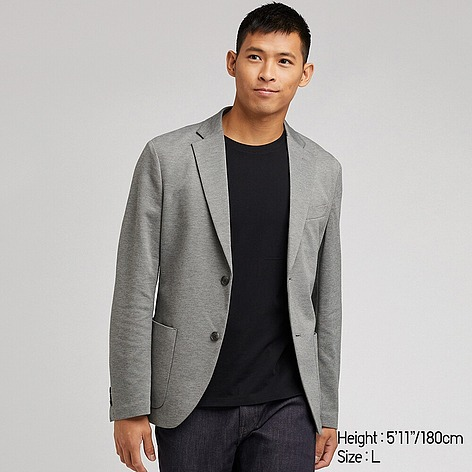F_M_suit jacket: (107, 107, 345, 432)
